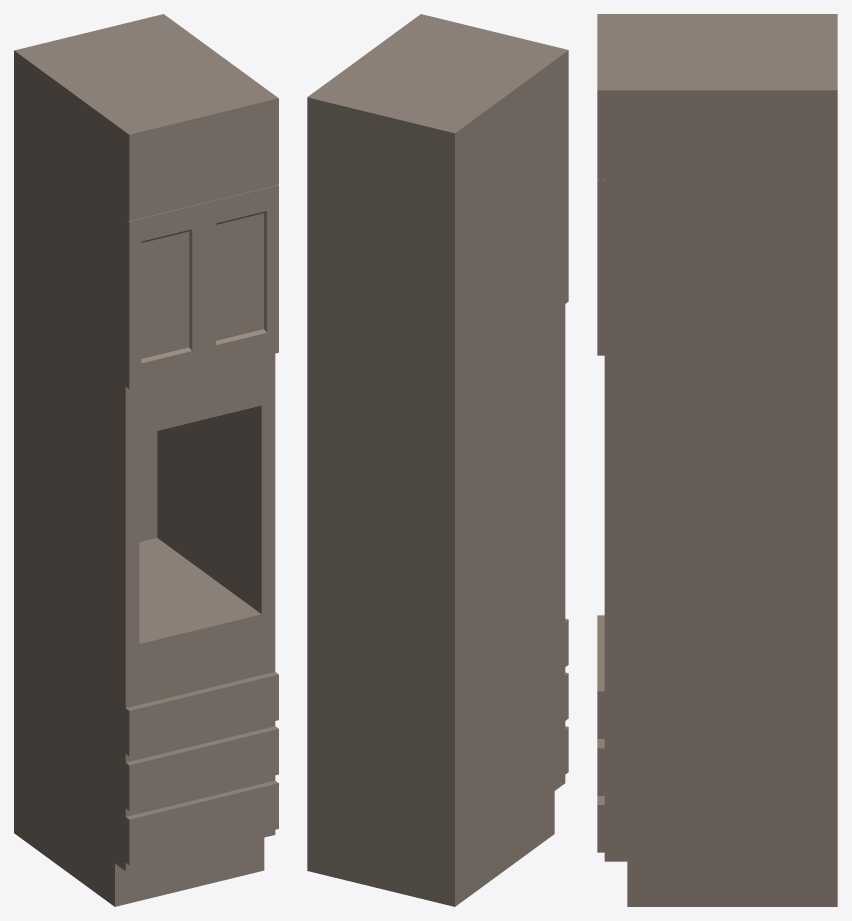
File: Oven-Cabinet-24-Deep_std_001_W18in_1D.glb
3 views of the same model, side by side, from view 1: azimuth 30°, elevation 25°; view 2: azimuth 150°, elevation 25°; view 3: azimuth 270°, elevation 25° (orthographic). The views are drawn at different scales.
Parts seen in each view (by area): view 1: Oven-Cabinet-24-Deep.std.001_W18in_1D; view 2: Oven-Cabinet-24-Deep.std.001_W18in_1D; view 3: Oven-Cabinet-24-Deep.std.001_W18in_1D.
Boxes of the visible parts, left/top/right/bottom form: Oven-Cabinet-24-Deep.std.001_W18in_1D: left=14, top=14, right=278, bottom=906; Oven-Cabinet-24-Deep.std.001_W18in_1D: left=307, top=14, right=568, bottom=906; Oven-Cabinet-24-Deep.std.001_W18in_1D: left=597, top=14, right=837, bottom=906.
Bounding box in the file's own units: 0.4572 × 2.29 × 0.6096.
